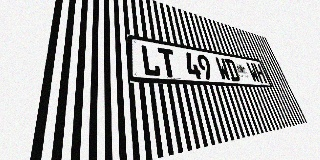4: (183, 52, 202, 79)
9: (196, 54, 214, 80)
D: (224, 58, 241, 81)
H: (253, 63, 267, 83)
L: (140, 44, 161, 77)
T: (157, 47, 178, 78)
W: (214, 57, 232, 81), (246, 62, 261, 83)
